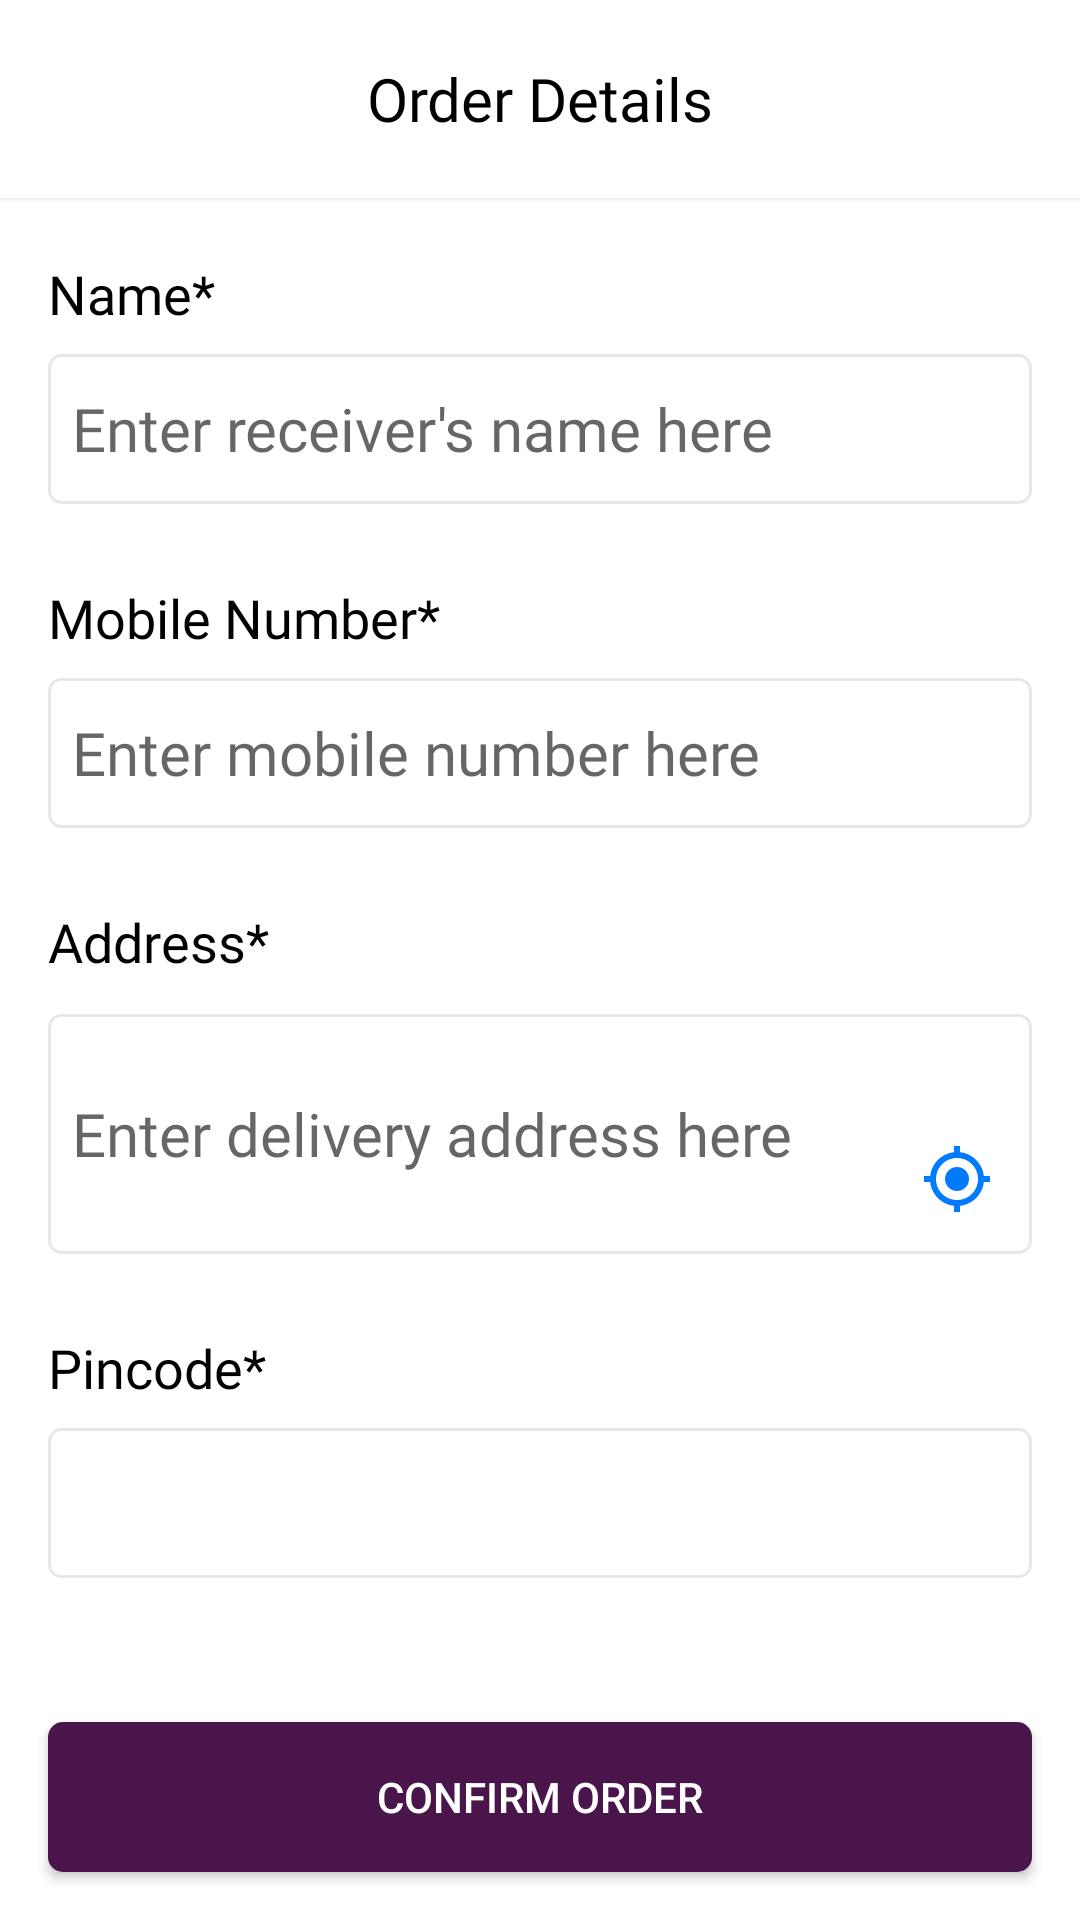

Named icons in this screenshot (1080w x 1920h) and their centers, (x,y):
location: (957,1179)
